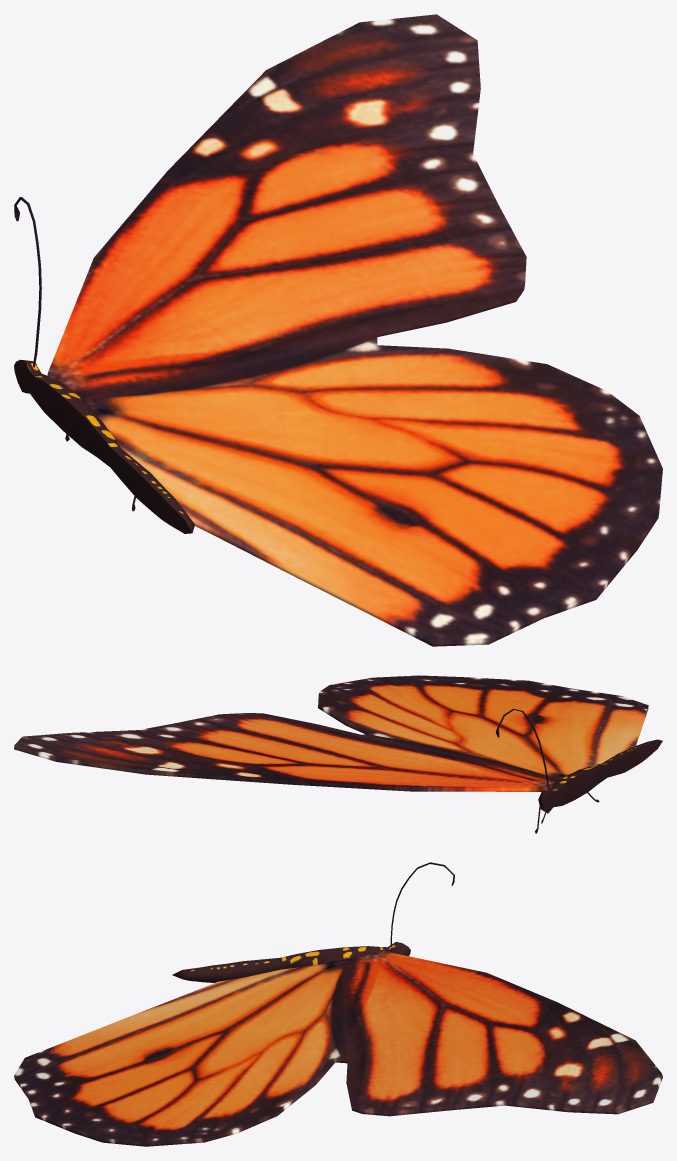
The model's file is Half_Butterfly_Right.glb.
3 renders of one model, top to bottom at view 1: azimuth 30°, elevation 25°; view 2: azimuth 150°, elevation 25°; view 3: azimuth 270°, elevation 25°, orthographic. The views are drawn at different scales.
Visible parts, largest first — view 1: Half_Butterfly_Right; view 2: Half_Butterfly_Right; view 3: Half_Butterfly_Right.
Boxes of the visible parts, bbox=[...] form: Half_Butterfly_Right: bbox=[14, 14, 662, 646]; Half_Butterfly_Right: bbox=[14, 675, 662, 833]; Half_Butterfly_Right: bbox=[14, 862, 662, 1146].
Bounding box in the file's own units: 1.89 × 0.735 × 2.57.
1 material, 1 textured.
